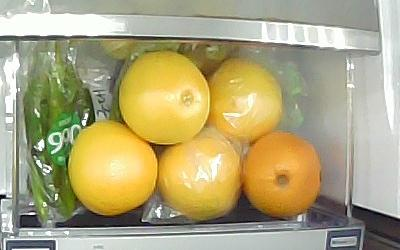grapefruit: (67, 120, 158, 217), (117, 50, 209, 144), (242, 130, 322, 219)
grapefruit_vinyl: (157, 129, 241, 220), (210, 58, 283, 140)
